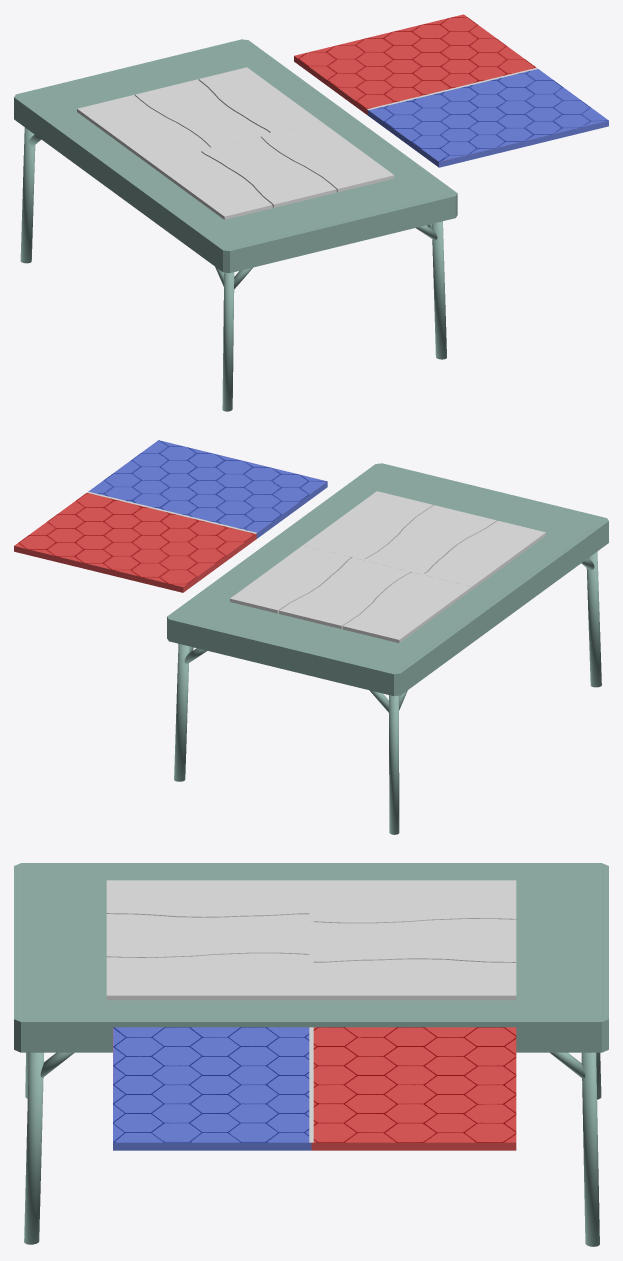
The model's file is board.fbx.
3 views of the same model, one above another, from view 1: azimuth 30°, elevation 25°; view 2: azimuth 150°, elevation 25°; view 3: azimuth 270°, elevation 25° (orthographic). The views are drawn at different scales.
Visible parts, largest first — view 1: Cube.003, Cube, Cube.004, Cube.011, Cube.008, Cube.010, Cube.007, Cube.006, Cube.009, Cylinder.004, Cylinder.003, Cylinder.002; view 2: Cube.003, Cube.004, Cube, Cube.008, Cube.007, Cube.011, Cube.010, Cube.009, Cube.006, Cylinder.001, Cylinder.002, Cylinder.003; view 3: Cube.003, Cube.004, Cube, Cube.011, Cube.008, Cube.009, Cube.007, Cube.010, Cube.006, Cylinder.004, Cylinder.001, Cube.001 (+1 smaller).
Part boxes in pixels (x1,y1,x2,y2): Cube.003: (14, 39, 457, 273); Cube: (367, 69, 608, 167); Cube.004: (294, 14, 536, 114); Cube.011: (261, 122, 394, 192); Cube.008: (77, 95, 209, 165); Cube.010: (201, 137, 336, 207); Cube.007: (135, 79, 269, 147); Cube.006: (151, 151, 272, 219); Cube.009: (199, 67, 319, 132); Cylinder.004: (416, 221, 446, 359); Cylinder.003: (215, 267, 252, 411); Cylinder.002: (20, 127, 41, 263); Cube.003: (167, 463, 608, 696); Cube.004: (14, 493, 256, 592); Cube: (88, 440, 327, 538); Cube.008: (342, 572, 472, 642); Cube.007: (279, 557, 410, 628); Cube.011: (304, 491, 433, 558); Cube.010: (366, 505, 496, 573); Cube.009: (230, 545, 351, 613); Cube.006: (425, 521, 545, 588); Cylinder.001: (174, 643, 207, 781); Cylinder.002: (369, 690, 407, 834); Cylinder.003: (581, 551, 601, 687); Cube.003: (14, 863, 608, 1052); Cube.004: (311, 1027, 516, 1150); Cube: (113, 1027, 311, 1150); Cube.011: (106, 953, 311, 1000); Cube.008: (313, 880, 516, 923); Cube.009: (311, 959, 516, 1000); Cube.007: (313, 918, 516, 962); Cube.010: (106, 914, 309, 957); Cube.006: (106, 880, 309, 917); Cylinder.004: (24, 1052, 74, 1244); Cylinder.001: (550, 1052, 599, 1246); Cube.001: (309, 1027, 313, 1142).
Bounding box in the file's own units: 1609 × 614 × 1424.
